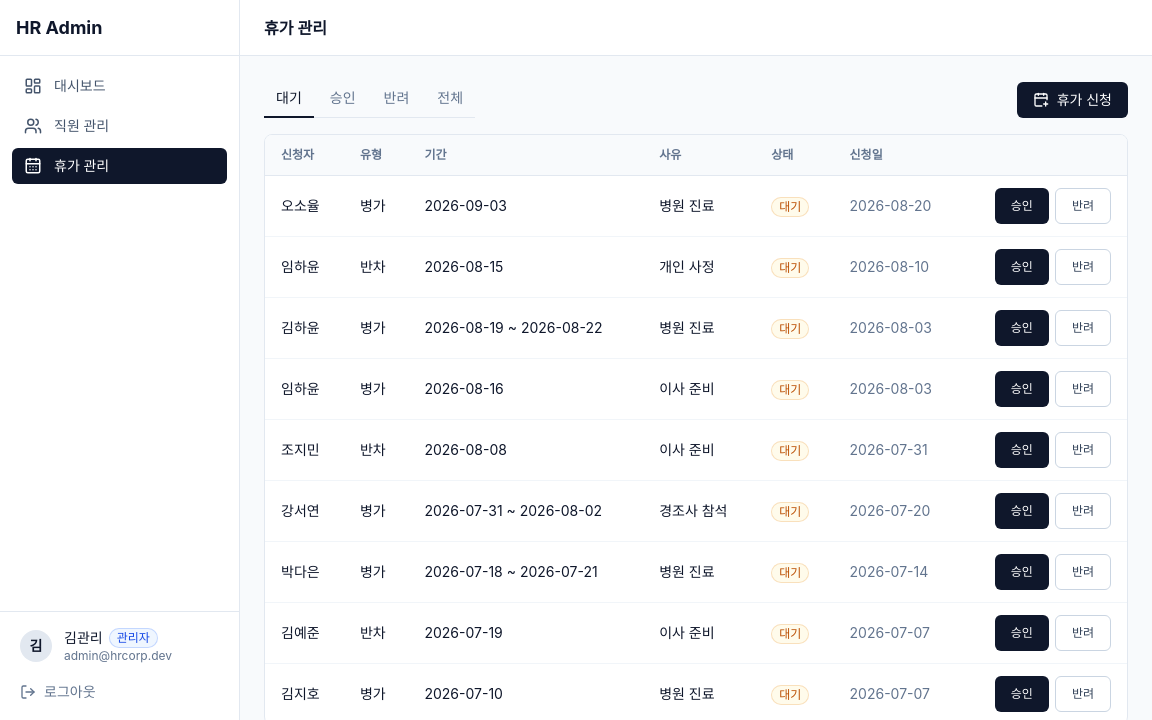
Test: LeavePage 낙관적 업데이트 › 서버가 500이면 스냅샷으로 롤백되고 에러 토스트가 뜬다
This screenshot has width=1152, height=720.
Click the 1st button "승인" at [1022, 206], box [995, 188, 1049, 224]
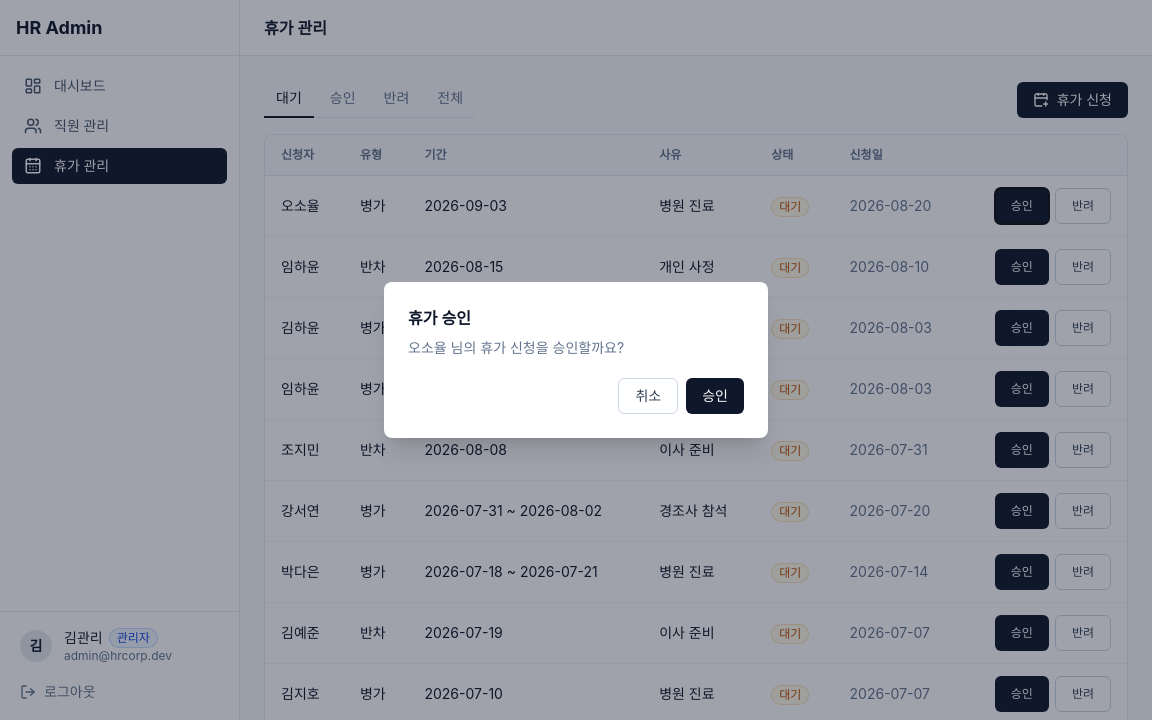
Click the button "승인" at [715, 396], box [686, 378, 744, 414]
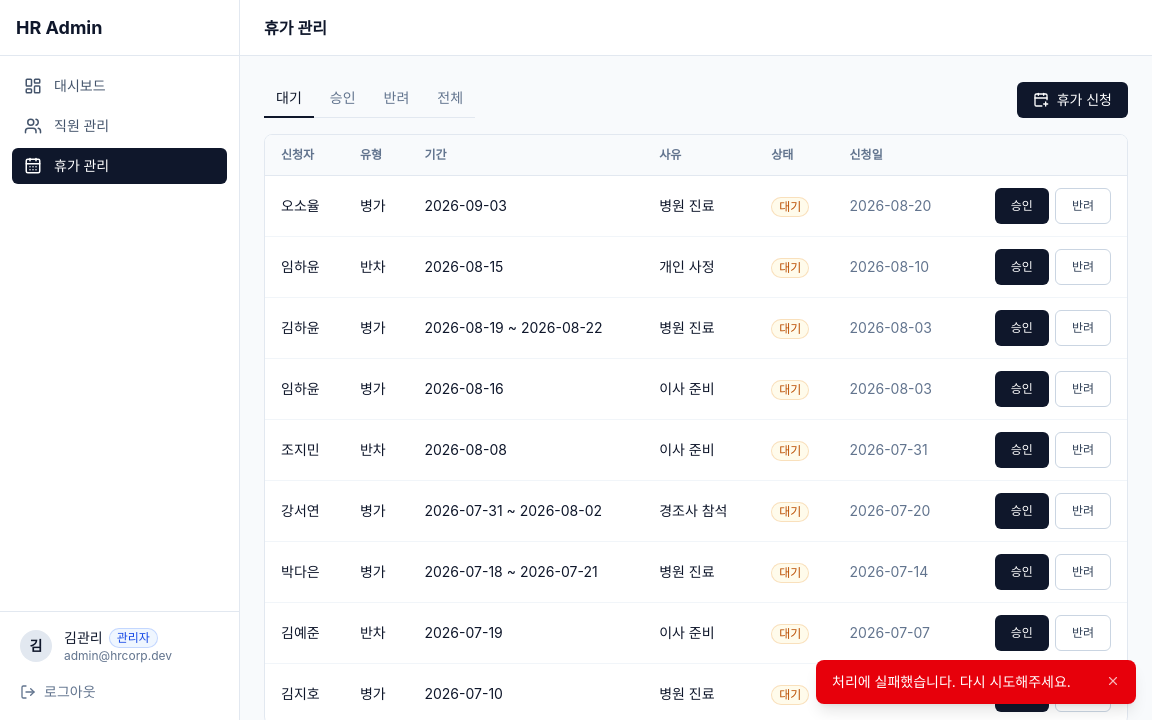
Expected: the 1st button "승인" is shown, [995, 188, 1049, 224]
Expected: the message shows "처리에 실패했습니다", [832, 673, 1071, 690]
